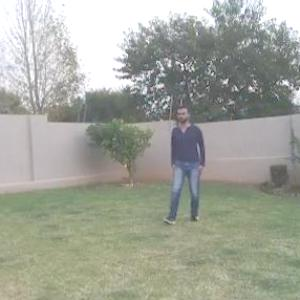follow: (164, 102, 208, 226)
